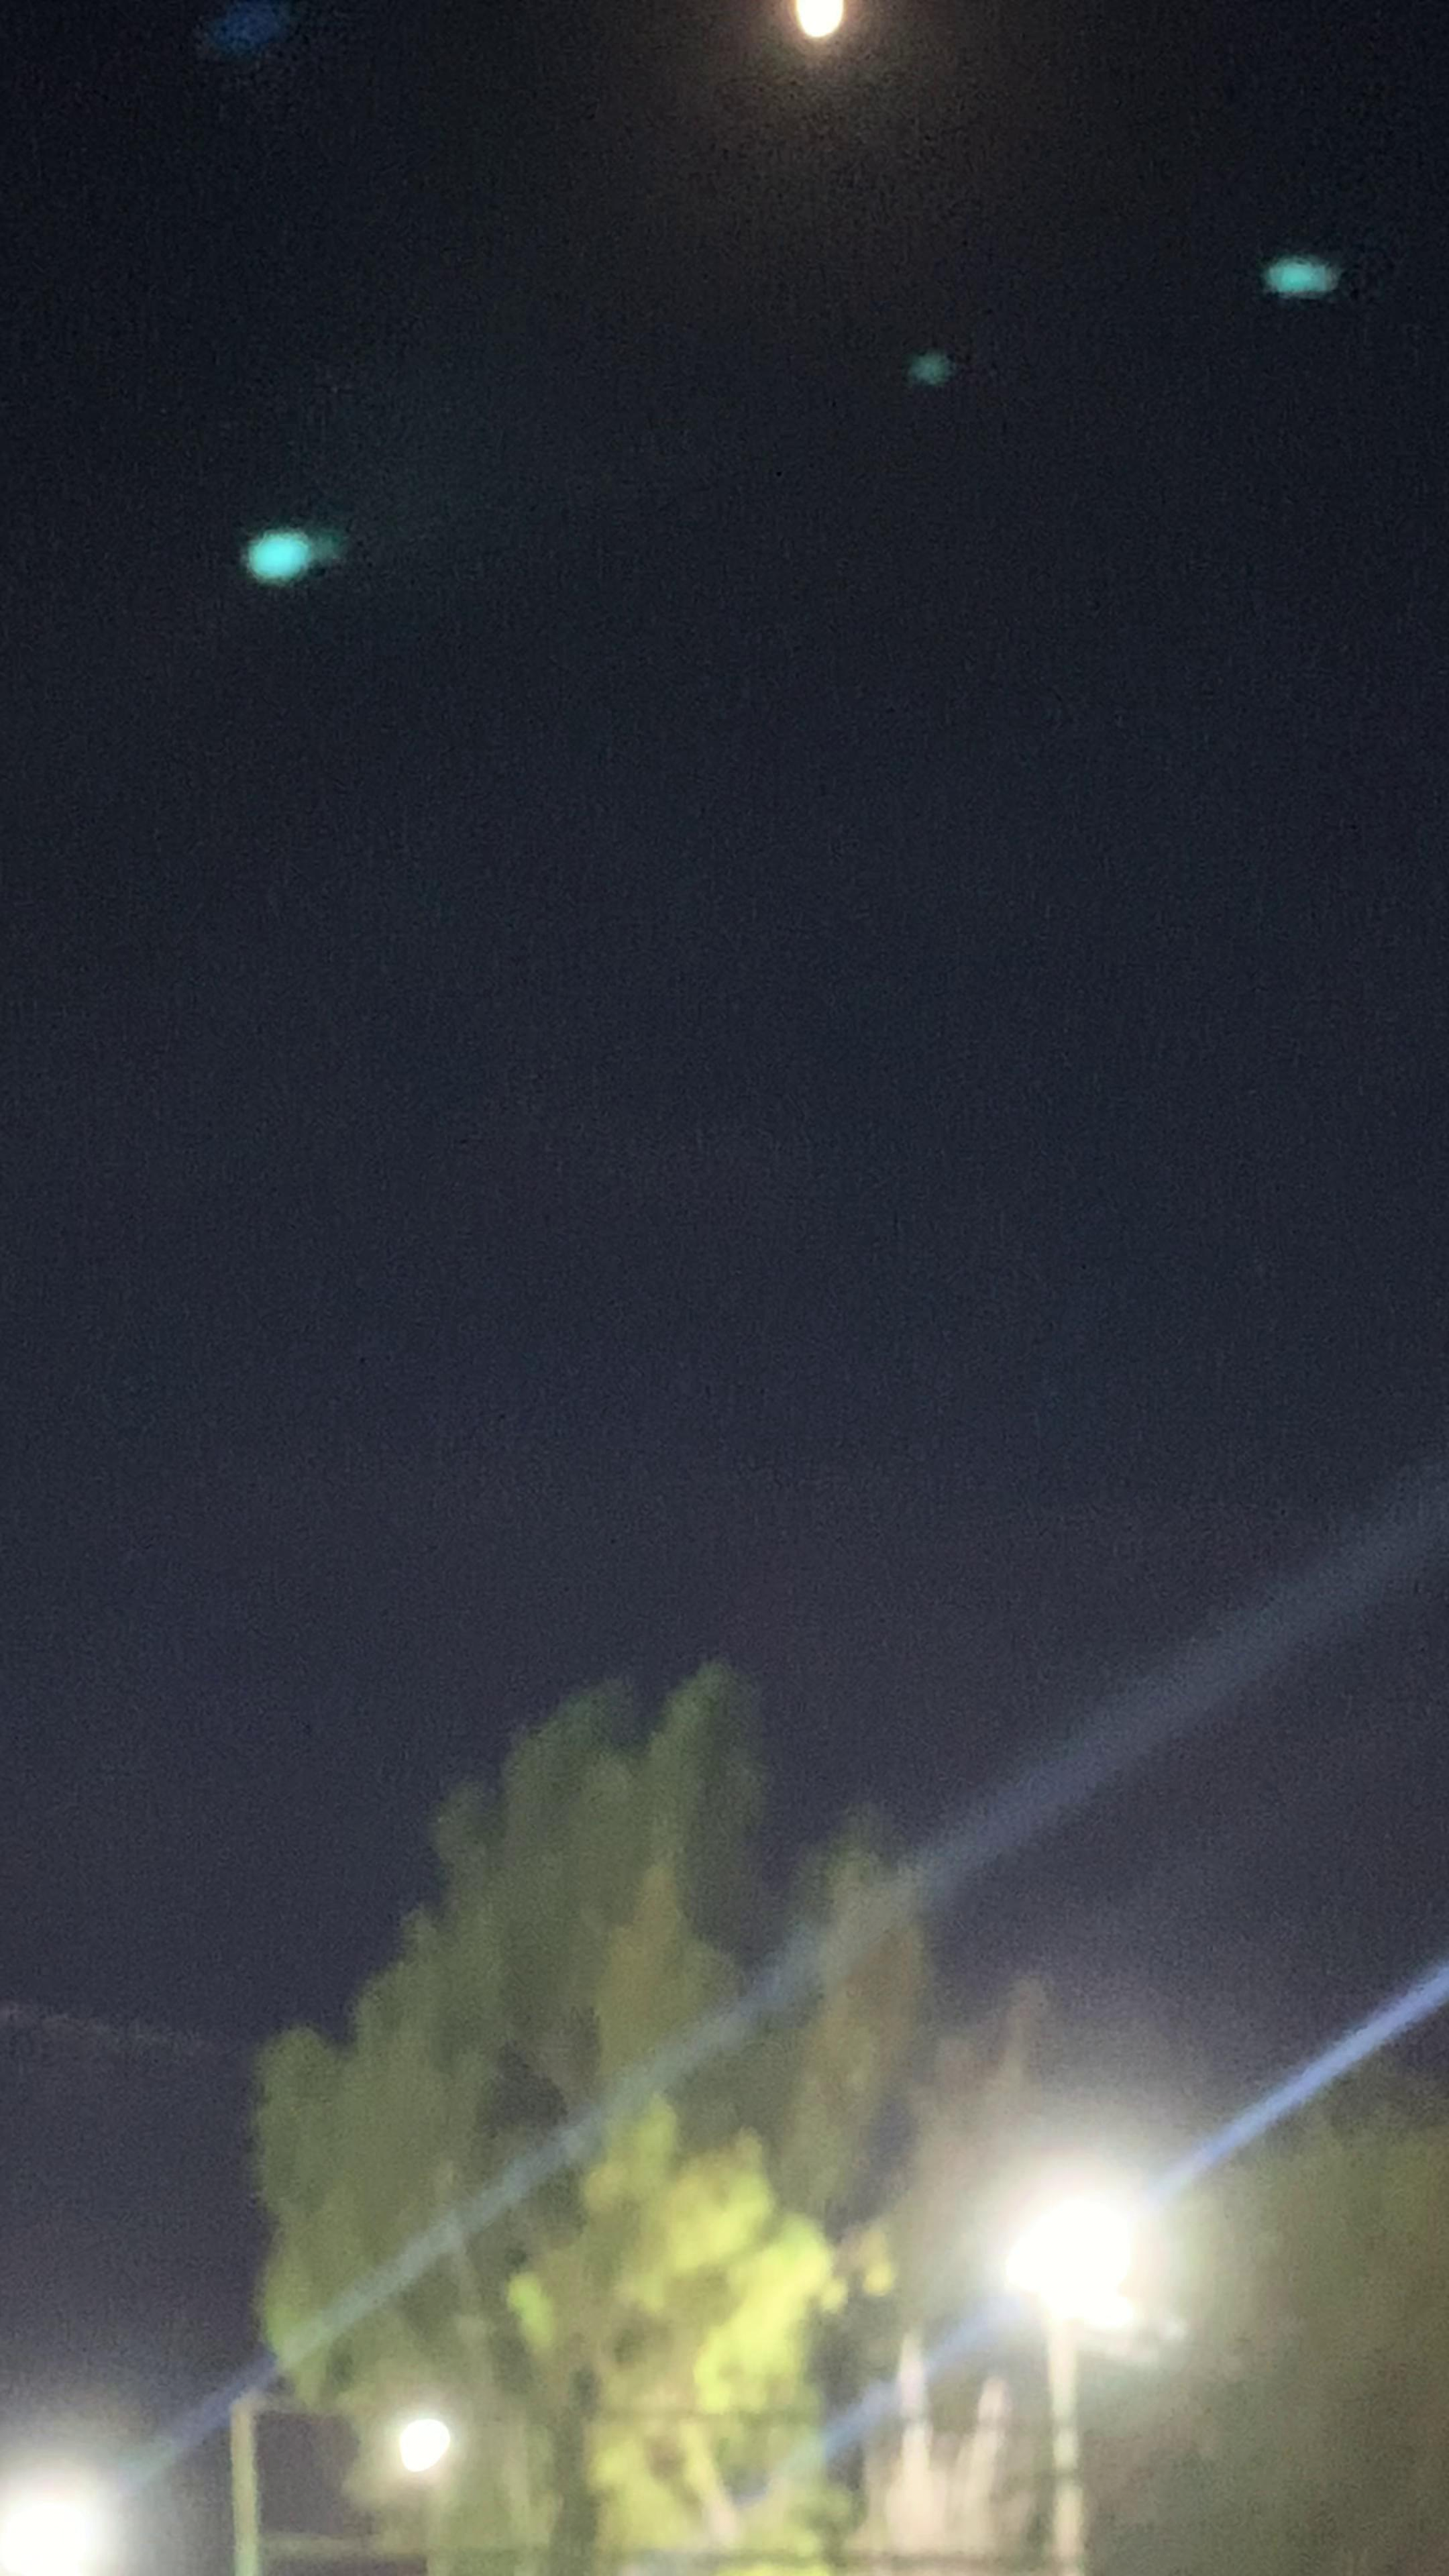moon: (753, 1, 890, 115)
